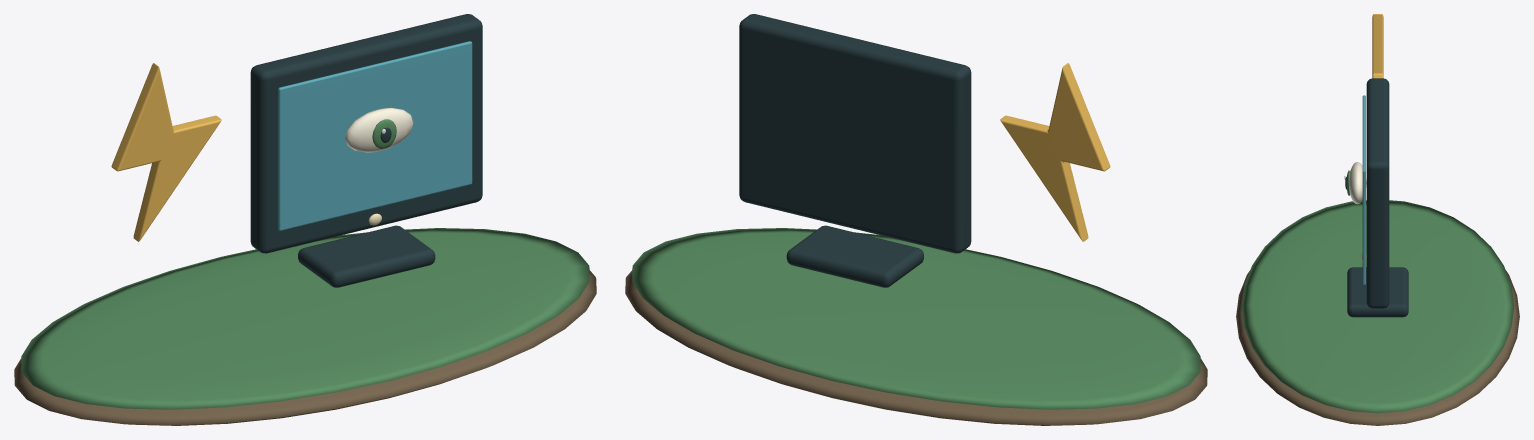
The model's file is electric-view.glb.
The picture shows the model from 3 angles, left to right: view 1: azimuth 30°, elevation 25°; view 2: azimuth 150°, elevation 25°; view 3: azimuth 270°, elevation 25°; orthographic projection. The views are drawn at different scales.
Visible parts, largest first — view 1: electric-view_surface_01, electric-view_surface_04, electric-view_surface_03, electric-view_surface_00, electric-view_surface_02, electric-view_surface_06; view 2: electric-view_surface_01, electric-view_surface_03, electric-view_surface_00, electric-view_surface_02; view 3: electric-view_surface_01, electric-view_surface_03, electric-view_surface_00, electric-view_surface_02, electric-view_surface_04, electric-view_surface_06.
Boxes of the visible parts, box(x1,y1,x2,y2) form: electric-view_surface_01: box(21, 119, 589, 409); electric-view_surface_04: box(278, 41, 472, 230); electric-view_surface_03: box(250, 14, 482, 287); electric-view_surface_00: box(14, 270, 596, 425); electric-view_surface_02: box(111, 63, 221, 241); electric-view_surface_06: box(345, 107, 413, 152); electric-view_surface_01: box(632, 228, 1200, 409); electric-view_surface_03: box(739, 14, 971, 287); electric-view_surface_00: box(625, 270, 1207, 425); electric-view_surface_02: box(1000, 63, 1110, 241); electric-view_surface_01: box(1241, 170, 1514, 413); electric-view_surface_03: box(1345, 78, 1408, 317); electric-view_surface_00: box(1236, 271, 1519, 425); electric-view_surface_02: box(1372, 14, 1383, 78); electric-view_surface_04: box(1362, 95, 1365, 284); electric-view_surface_06: box(1344, 162, 1366, 204).
Bounding box in the file's own units: 4.56 × 2.5 × 2.5.
